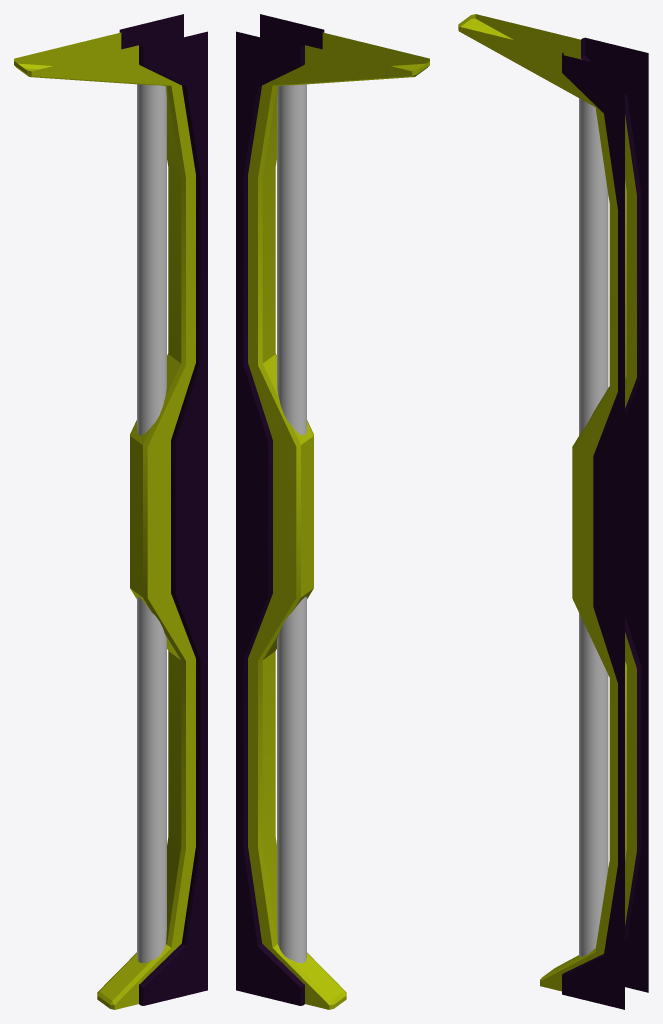
Rendered from MC_Pillier.fbx.
3 renders of one model, left to right at view 1: azimuth 30°, elevation 25°; view 2: azimuth 150°, elevation 25°; view 3: azimuth 330°, elevation 25°, orthographic. The views are drawn at different scales.
Visible parts, largest first — view 1: MC_Pillier; view 2: MC_Pillier; view 3: MC_Pillier.
Boxes of the visible parts, x1,y1,x2,y2 form: MC_Pillier: [14, 14, 207, 1009]; MC_Pillier: [236, 14, 429, 1009]; MC_Pillier: [458, 14, 648, 1009].
Bounding box in the file's own units: 58.41 × 305 × 13.76.
